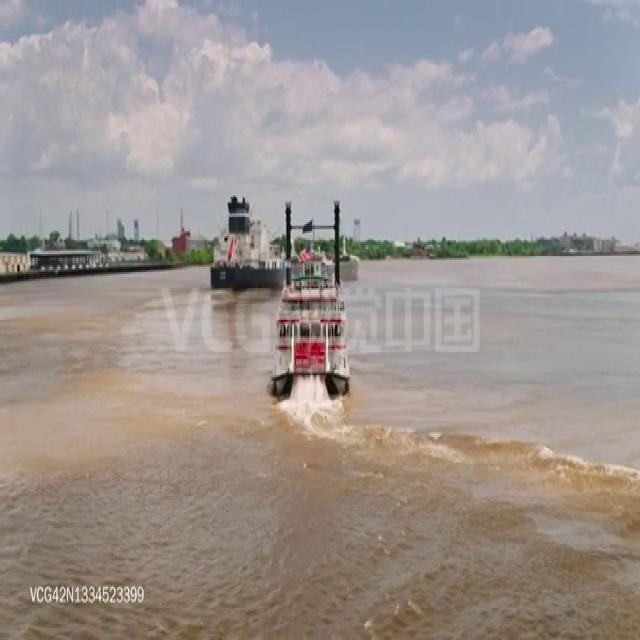cargoship: (210, 190, 356, 290)
passenger ship: (274, 202, 350, 402)
